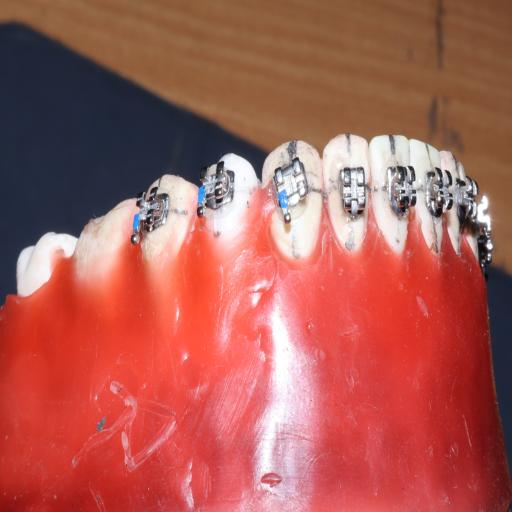correct_brace: (333, 158, 369, 224)
incorrect_brace: (321, 129, 373, 260), (268, 156, 314, 230)
